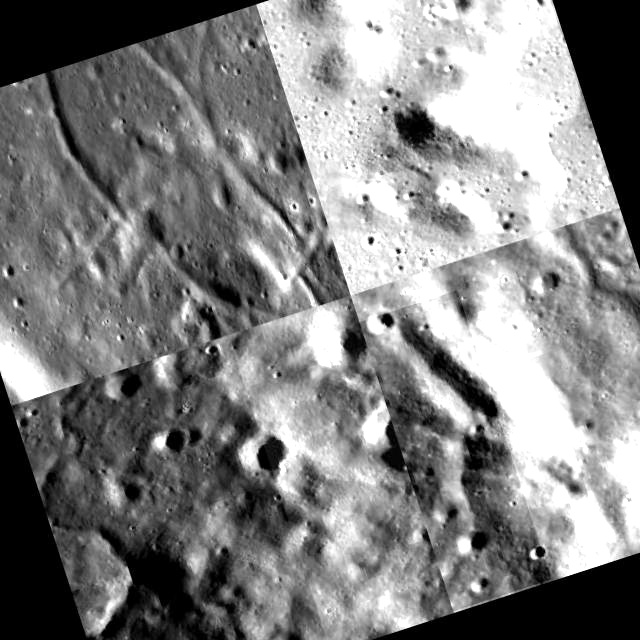crater: (11, 335, 330, 640), (36, 28, 278, 366), (359, 290, 552, 611), (438, 0, 587, 140)
